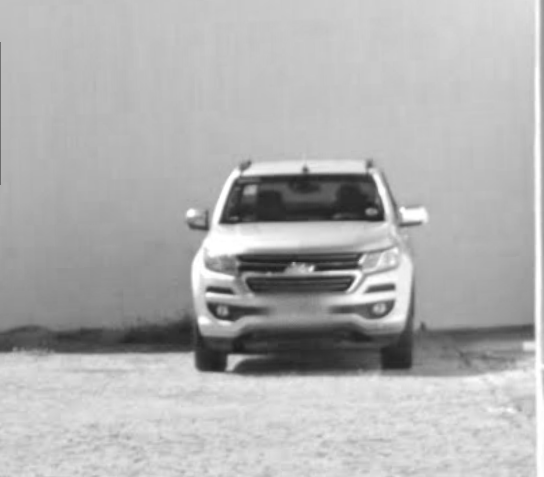car: (176, 146, 436, 385)
